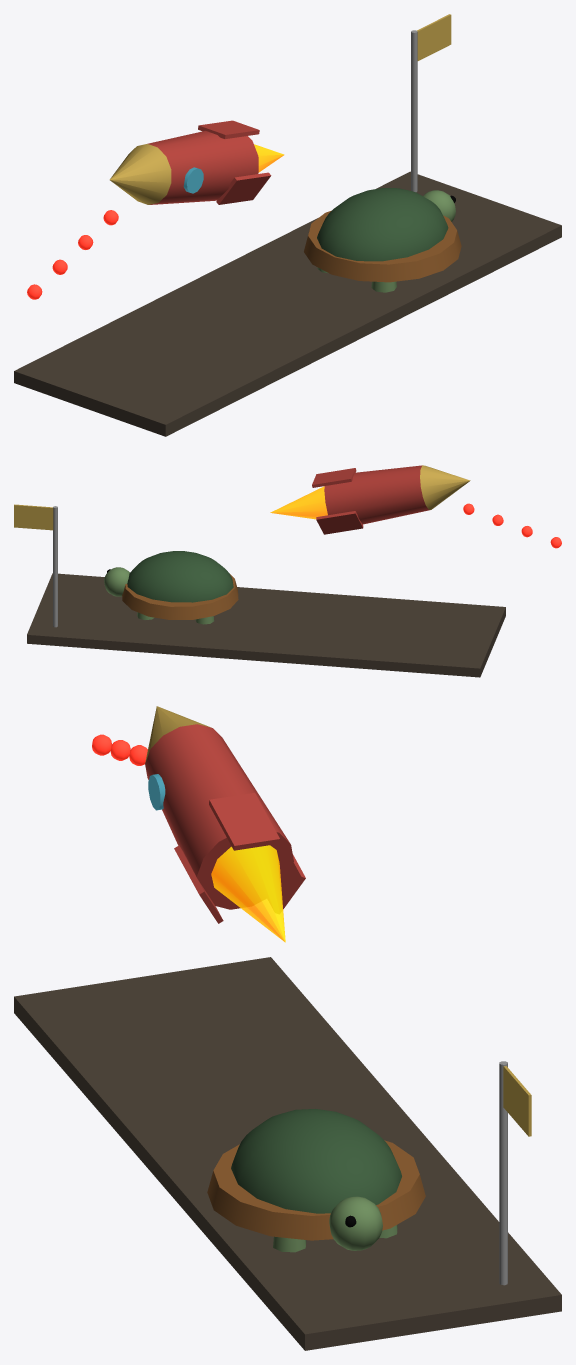
Rendered from fake_news.glb.
3 views of the same model, one above another, from view 1: azimuth 30°, elevation 25°; view 2: azimuth 150°, elevation 25°; view 3: azimuth 270°, elevation 25° (orthographic). The views are drawn at different scales.
Size of the model in its own units: 3.18 by 1.17 by 1.8.
